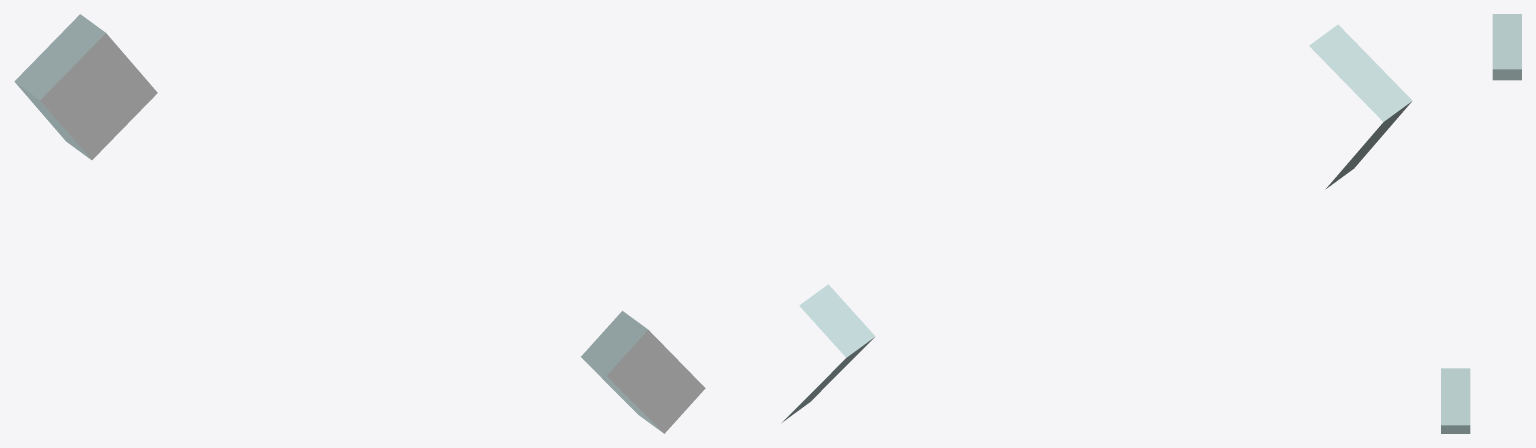
3 renders of one model, left to right at view 1: azimuth 30°, elevation 25°; view 2: azimuth 150°, elevation 25°; view 3: azimuth 270°, elevation 25°, orthographic. The views are drawn at different scales.
Parts seen in each view (by area): view 1: 0_1_2_1_1_0_3_3_2; view 2: 0_1_2_1_1_0_3_3_2; view 3: 0_1_2_1_1_0_3_3_2.
Boxes of the visible parts, left/top/right/bottom form: 0_1_2_1_1_0_3_3_2: left=14, top=14, right=705, bottom=433; 0_1_2_1_1_0_3_3_2: left=782, top=24, right=1412, bottom=422; 0_1_2_1_1_0_3_3_2: left=1441, top=14, right=1521, bottom=433.
Bounding box in the file's own units: 41.44 × 31.48 × 8.29.
